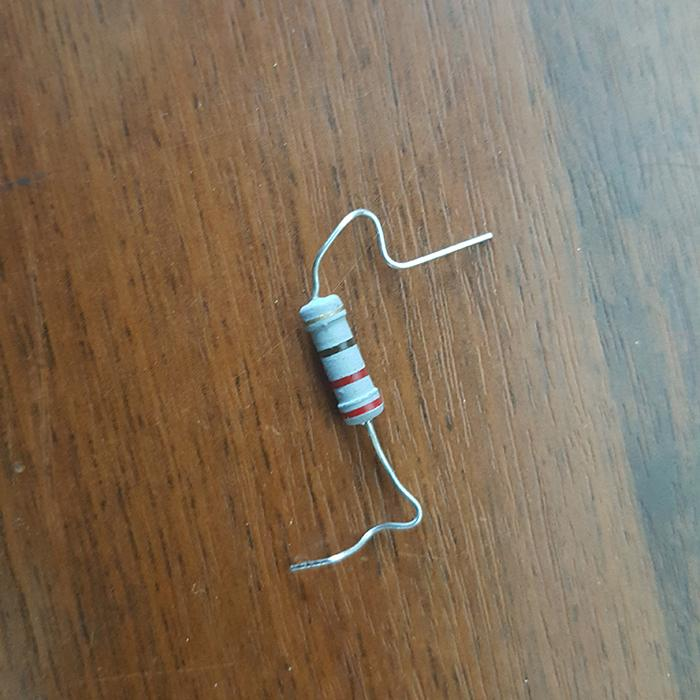resistor: (299, 291, 384, 424)
